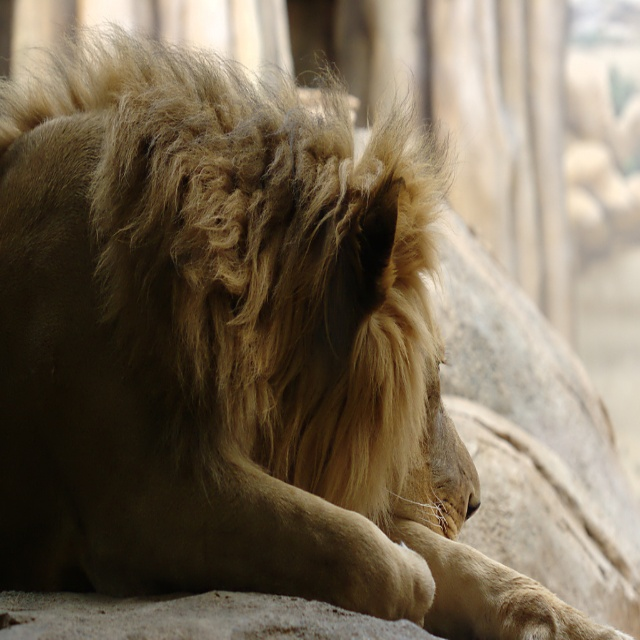Lion: (0, 15, 634, 639)
